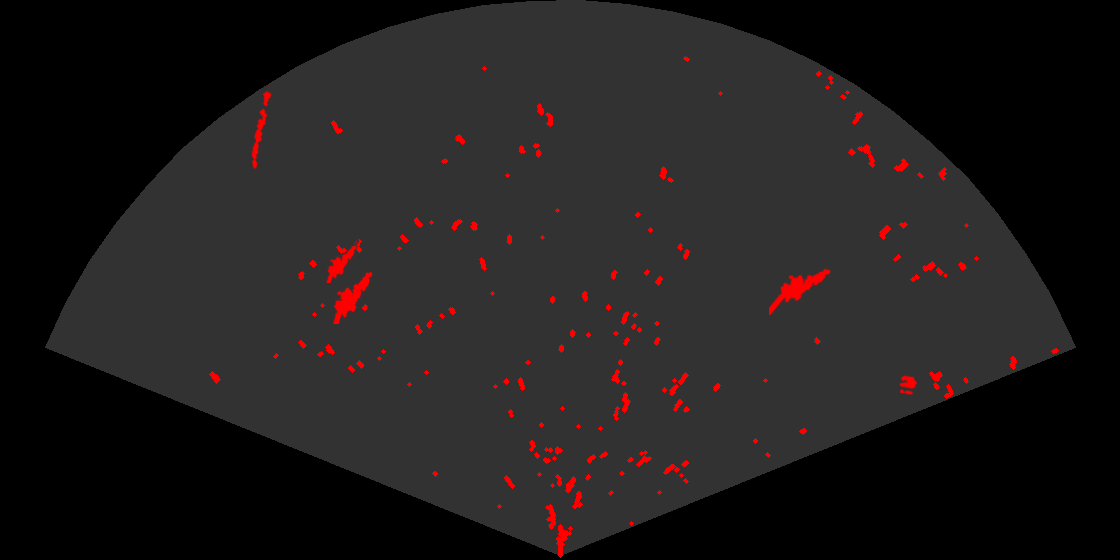ball: (897, 374, 919, 397)
chain: (250, 86, 273, 170)
frogman: (769, 267, 832, 315), (331, 269, 374, 324), (324, 237, 359, 283)
